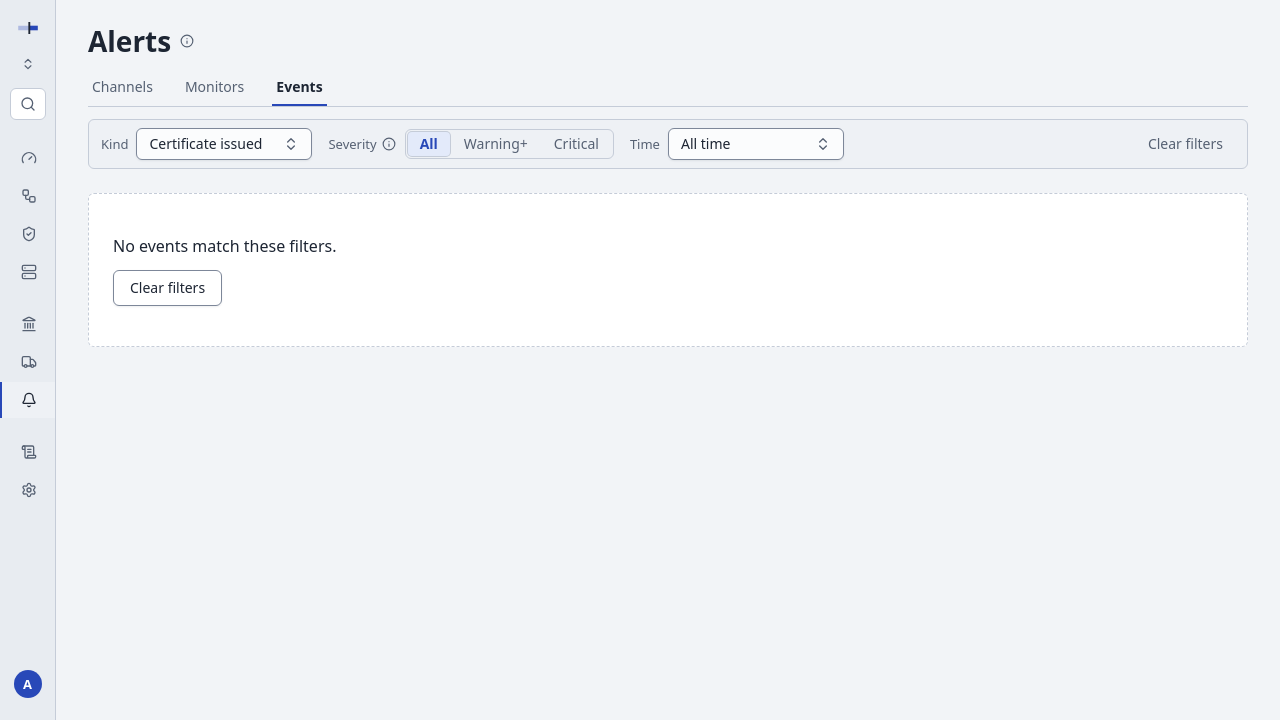
Scenario: a deep-linked partial kind gives the filtered empty state and clears
The width and height of the screenshot is (1280, 720).
Expected: the text "No events match these filters." is shown, x1=113 y1=234 x2=336 y2=258
Expected: the dropdown named "Kind" reads "Certificate issued", x1=136 y1=128 x2=312 y2=160
Click the button "Clear filters" in the row of "Severity" at (1185,144), box x1=1136 y1=128 x2=1235 y2=160
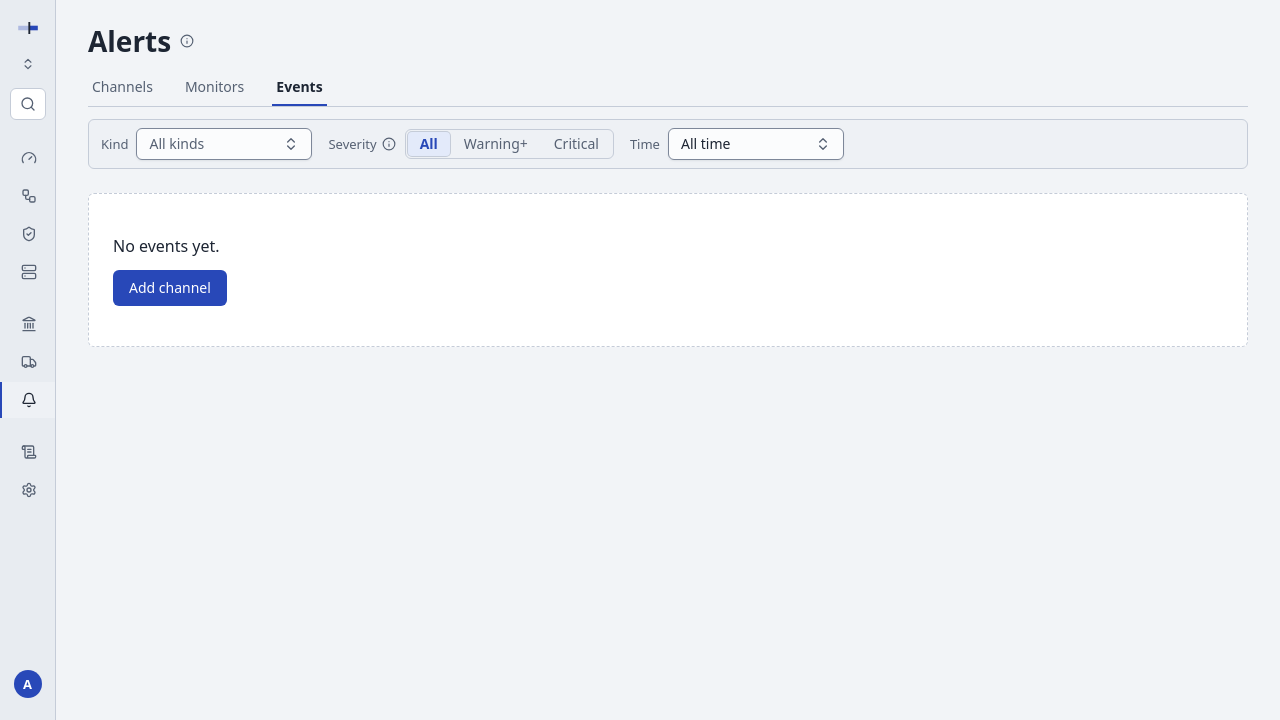
Result: the text "No events yet." is shown at x1=113 y1=234 x2=220 y2=258
